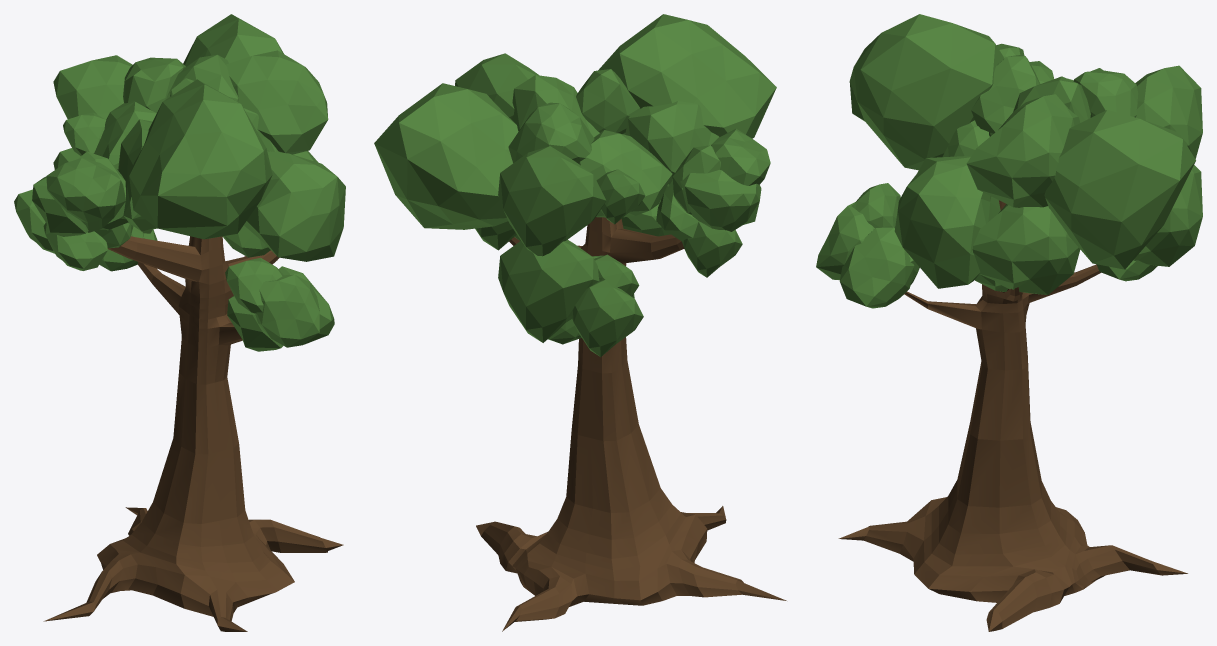
Rendered from Tree.fbx.
3 renders of one model, left to right at view 1: azimuth 30°, elevation 25°; view 2: azimuth 150°, elevation 25°; view 3: azimuth 270°, elevation 25°, orthographic. The views are drawn at different scales.
Visible parts, largest first — view 1: Icosphere.028; view 2: Icosphere.028; view 3: Icosphere.028.
Boxes of the visible parts, left/top/right/bottom form: Icosphere.028: left=14, top=14, right=345, bottom=631; Icosphere.028: left=374, top=14, right=786, bottom=631; Icosphere.028: left=816, top=14, right=1202, bottom=631.
Size of the model in its own units: 228 by 357 by 233.
